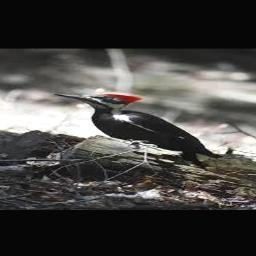Woodpecker: (55, 92, 222, 166)
